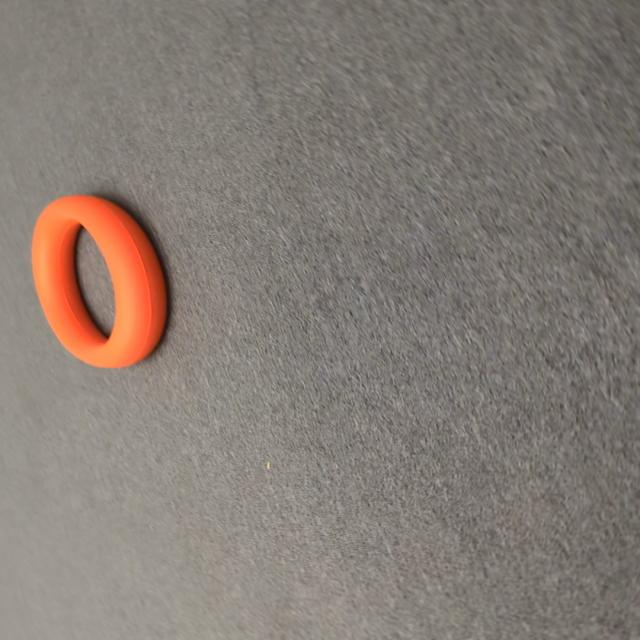note: (30, 196, 164, 366)
